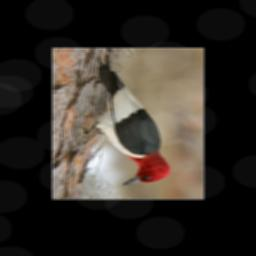Woodpecker: (71, 56, 172, 188)
